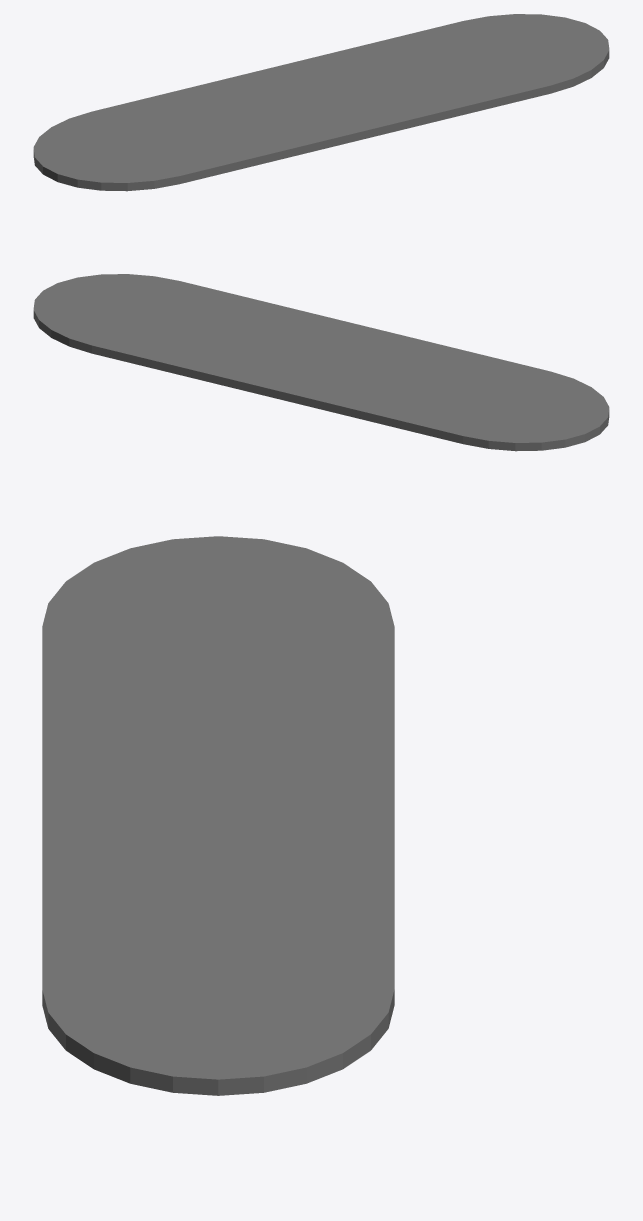
The model's file is Veh_HouShiJing2.FBX.
3 renders of one model, top to bottom at view 1: azimuth 30°, elevation 25°; view 2: azimuth 150°, elevation 25°; view 3: azimuth 270°, elevation 25°, orthographic. The views are drawn at different scales.
Visible parts, largest first — view 1: Box001; view 2: Box001; view 3: Box001.
Boxes of the visible parts, left/top/right/bottom form: Box001: left=33, top=14, right=609, bottom=191; Box001: left=33, top=274, right=609, bottom=451; Box001: left=42, top=536, right=394, bottom=1095.
Size of the model in its own units: 2.11 by 0.304 by 0.8958.
